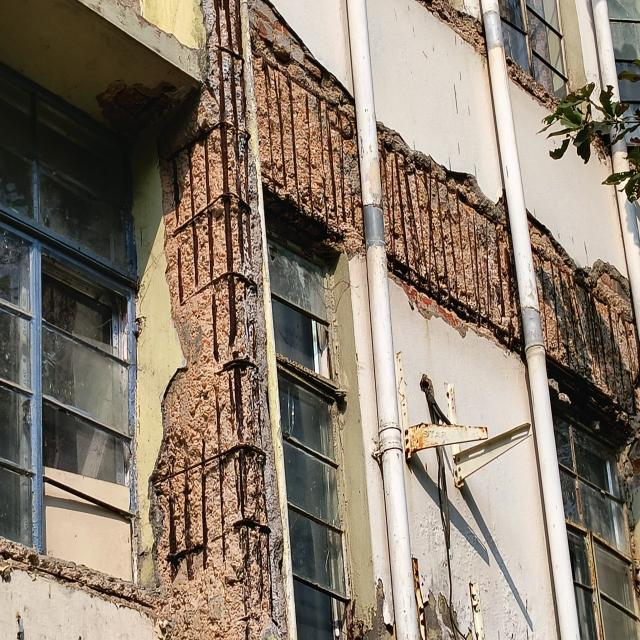peeling: (344, 572, 401, 640), (423, 582, 463, 640)
spalling: (0, 0, 290, 640), (378, 121, 522, 350), (251, 31, 365, 258), (530, 223, 633, 396), (246, 0, 347, 97), (98, 80, 176, 134), (418, 0, 485, 55), (506, 53, 559, 111), (620, 361, 640, 433)
